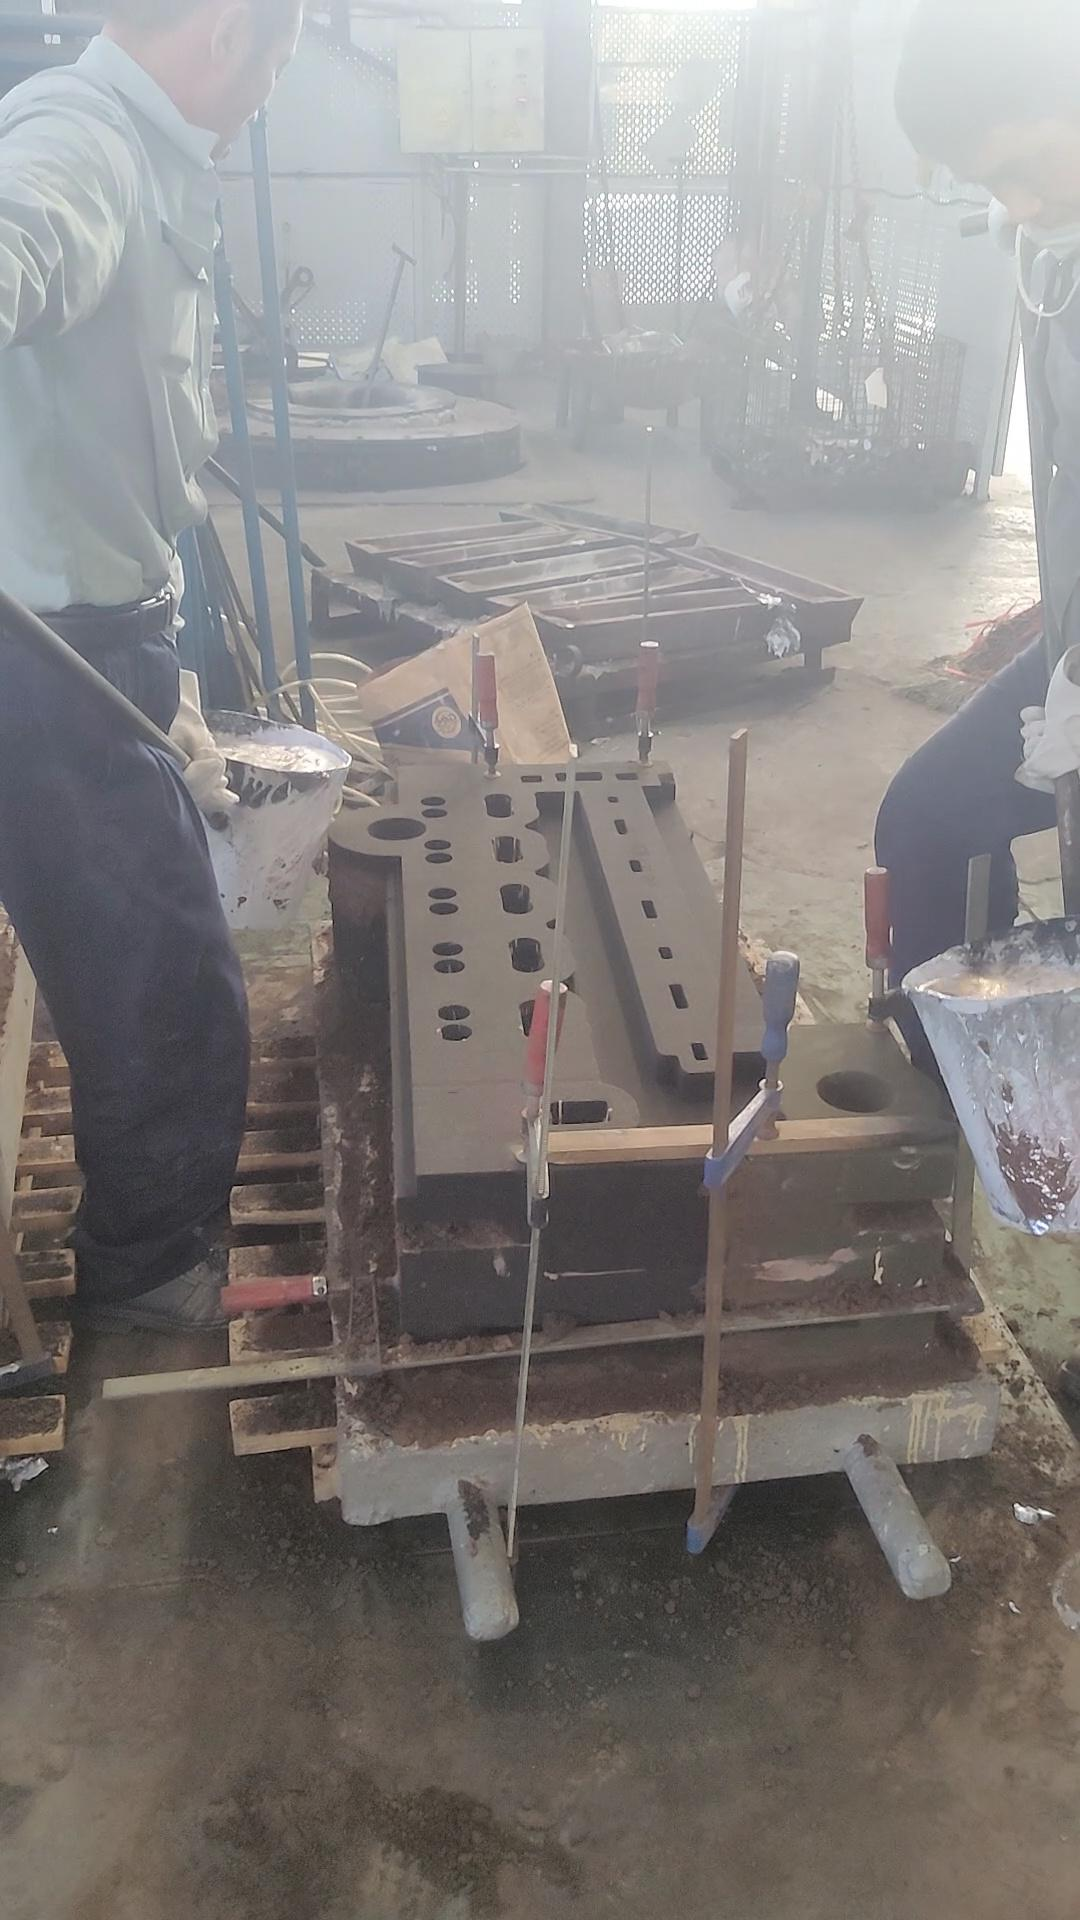pouring hole: (816, 1069, 897, 1112), (368, 816, 426, 841)
